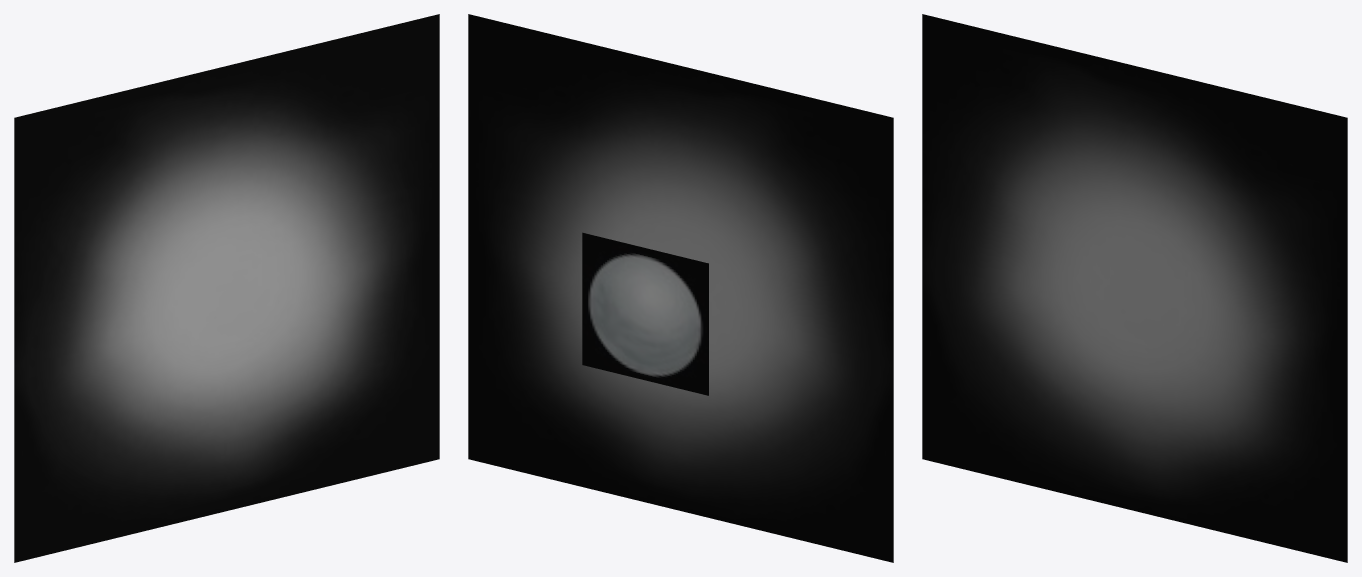
File: gypsyBallGlow.fbx
The picture shows the model from 3 angles, left to right: view 1: azimuth 30°, elevation 25°; view 2: azimuth 150°, elevation 25°; view 3: azimuth 330°, elevation 25°; orthographic projection.
Visible parts, largest first — view 1: glow_aura; view 2: glow_aura, ball; view 3: glow_aura.
Part boxes in pixels (left/top/right/bottom): glow_aura: left=14, top=14, right=439, bottom=562; glow_aura: left=468, top=14, right=893, bottom=562; ball: left=582, top=232, right=708, bottom=395; glow_aura: left=922, top=14, right=1347, bottom=562.
Bounding box in the file's own units: 336 × 336 × 48.26.
2 materials, 2 textured.
